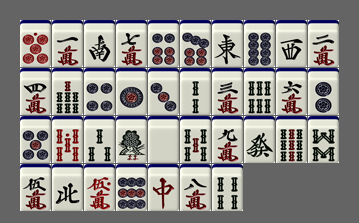0m: (84, 164, 115, 211)
0p: (20, 20, 51, 67)
0s: (52, 116, 83, 163)
1m: (52, 20, 83, 67)
1p: (116, 68, 147, 115)
1s: (116, 116, 147, 163)
1z: (212, 20, 243, 67)
2m: (308, 20, 339, 67)
2p: (308, 68, 339, 115)
2s: (180, 68, 211, 115)
2z: (84, 20, 115, 67)
3m: (212, 68, 243, 115)
3p: (148, 68, 179, 115)
3s: (84, 116, 115, 163)
3z: (276, 20, 307, 67)
4m: (20, 68, 51, 115)
4p: (84, 68, 115, 115)
4s: (212, 164, 243, 211)
4z: (52, 164, 83, 211)
5m: (20, 164, 51, 211)
5p: (20, 116, 51, 163)
5s: (180, 116, 211, 163)
5z: (148, 116, 179, 163)
6m: (276, 68, 307, 115)
6p: (148, 20, 179, 67)
6s: (244, 68, 275, 115)
6z: (244, 116, 275, 163)
7m: (116, 20, 147, 67)
7p: (180, 20, 211, 67)
7s: (52, 68, 83, 115)
7z: (148, 164, 179, 211)
8m: (180, 164, 211, 211)
8p: (244, 20, 275, 67)
8s: (308, 116, 339, 163)
9m: (212, 116, 243, 163)
9p: (116, 164, 147, 211)
9s: (276, 116, 307, 163)
